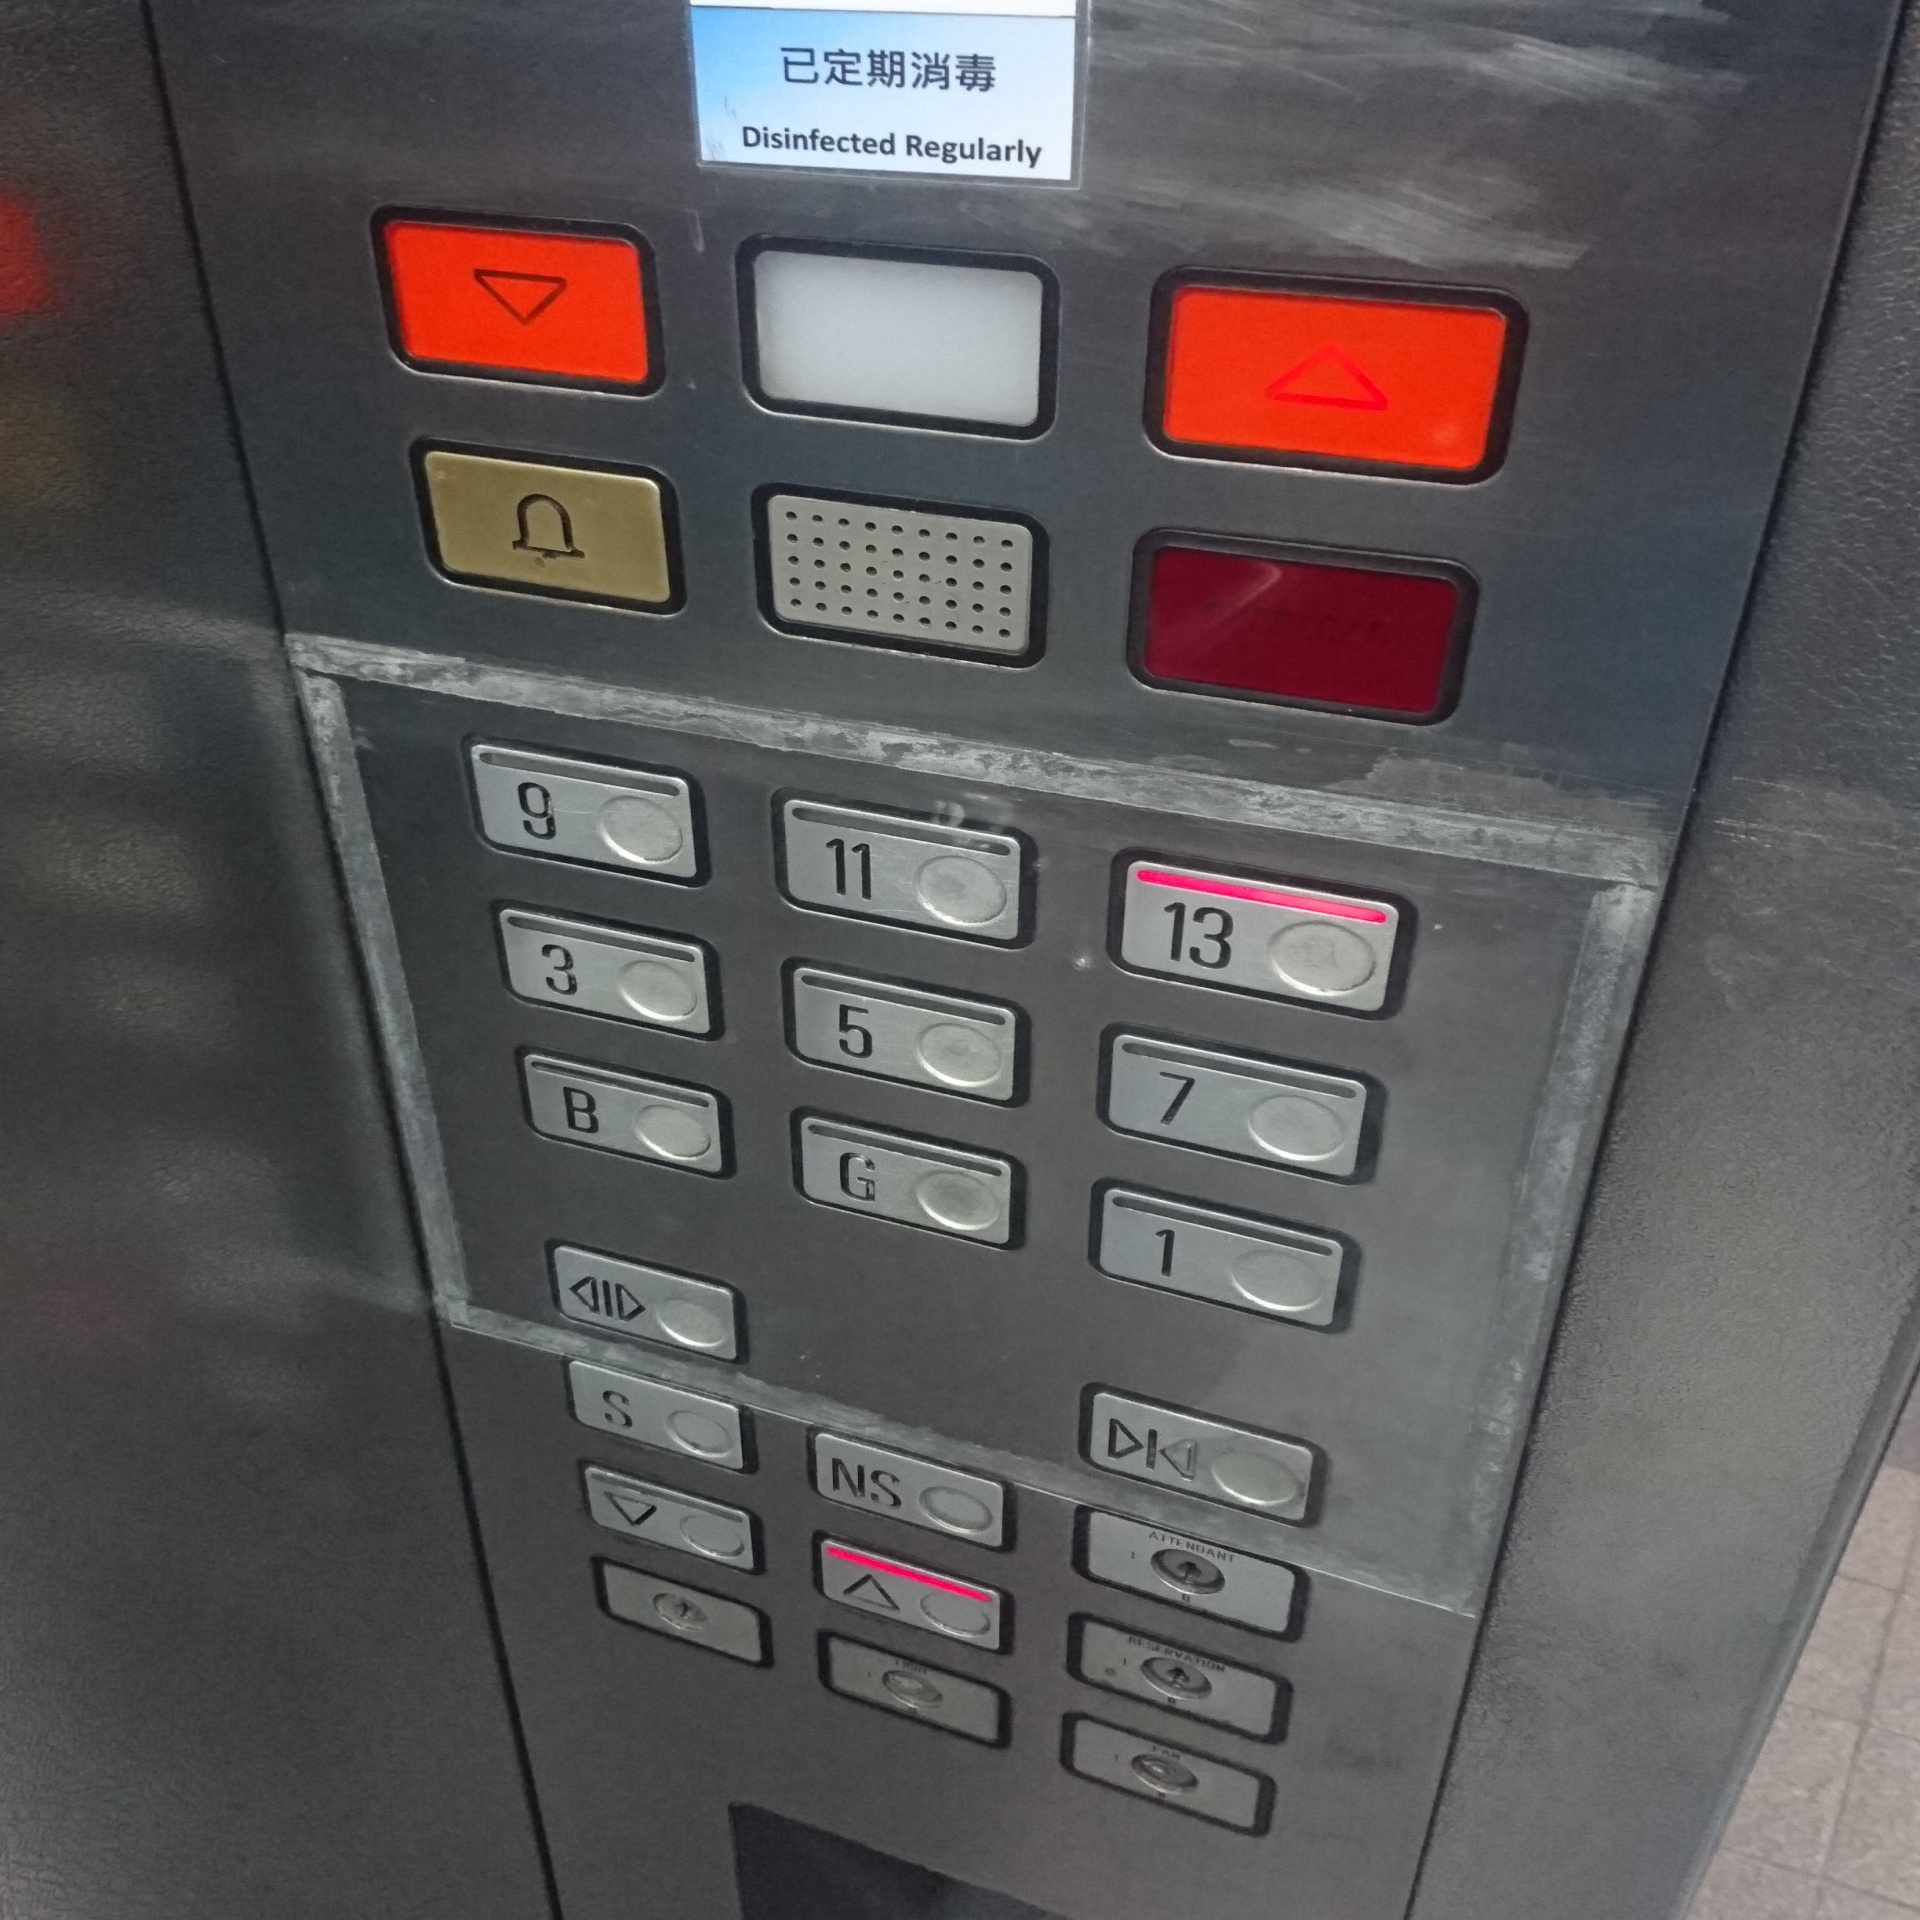1: (1085, 1175, 1359, 1340)
11: (761, 770, 1041, 962)
13: (1108, 832, 1422, 1016)
3: (485, 900, 724, 1046)
5: (775, 948, 1029, 1109)
7: (1094, 1013, 1385, 1192)
9: (454, 724, 712, 893)
B: (506, 1037, 745, 1185)
G: (782, 1106, 1022, 1254)
NS: (798, 1417, 1022, 1549)
S: (559, 1354, 761, 1465)
alarm: (404, 425, 689, 624)
bt_keyhole: (578, 1553, 777, 1670), (1058, 1723, 1275, 1829), (1062, 1621, 1280, 1720), (1074, 1521, 1292, 1619), (818, 1642, 1013, 1741)
close: (1073, 1366, 1324, 1526)
down: (360, 190, 673, 410), (573, 1461, 763, 1574)
empty: (728, 220, 1067, 452), (1122, 519, 1482, 735)
open: (535, 1224, 754, 1371)
speaker: (740, 468, 1055, 679)
up: (1134, 250, 1533, 498), (809, 1524, 1007, 1651)
